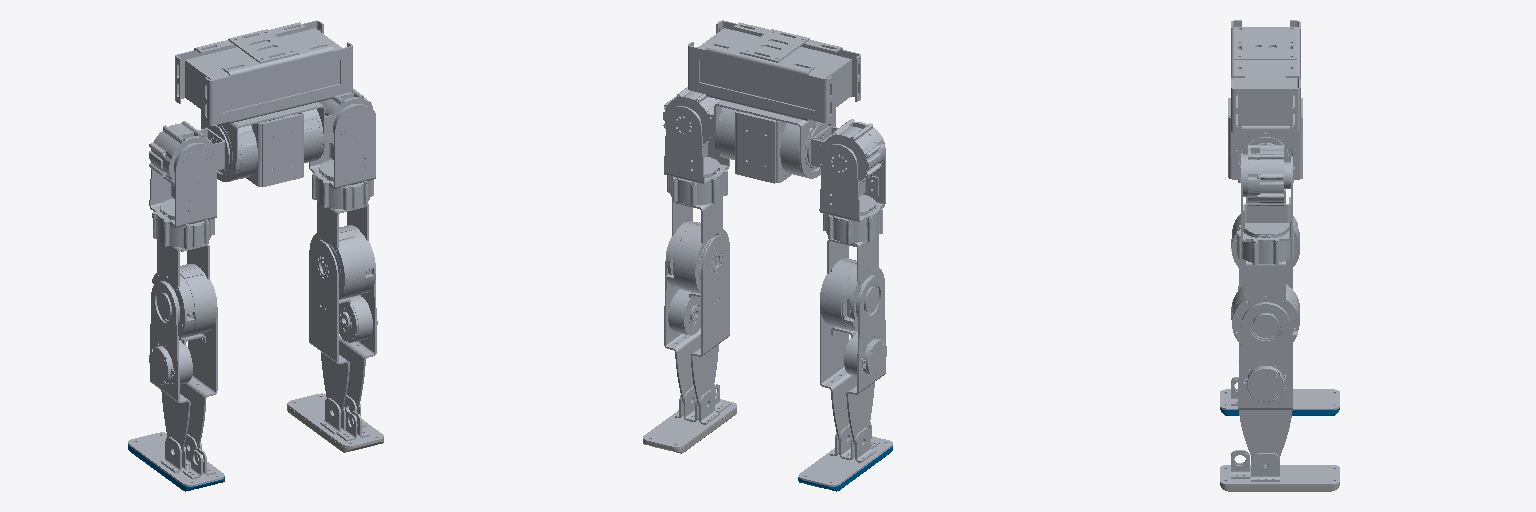
robot.urdf — ch_robot:
<?xml version='1.0' encoding='utf-8'?>
<robot name="ch_robot">
  <!-- Simulation inertials match chrobot_16kg_candidate.xml, not measured hardware.
       Regenerate with deprecated/wbc_prototype/sync_wbc_model.py; joint transforms are preserved. -->

  <material name="robot_metal">
    <color rgba="0.72 0.74 0.78 1.0"/>
  </material>

  <link name="world"/>

  <link name="torso">
    <inertial>
      <origin xyz="-0.156928 -0.029496 0.666" rpy="0 0 0"/>
      <mass value="0.001"/>
      <inertia ixx="1e-06" iyy="1e-06" izz="1e-06" ixy="0" ixz="0" iyz="0"/>
    </inertial>

    <collision>
      <!-- box centered at torso frame -->
      <origin xyz="-0.154672 -0.03 0.6962" rpy="0 0 0" />
      <geometry>
        <box size="0.28 0.12 0.096" />
         <!-- <mesh filename="package://humanoid_leg_description/meshes/robot_meshes/visual/battery_box.stl" scale="0.001 0.001 0.001" /> -->
      </geometry>
    </collision>

    <visual>
      <!-- <origin xyz="0.281672 0.07751 -0.661236" rpy="0 0 0" /> -->
       <origin xyz="0 0 0" rpy="0 0 0" />
      <geometry>
        <mesh filename="package://humanoid_leg_description/meshes/robot_meshes/visual/battery_box.stl" scale="0.001 0.001 0.001" />
      </geometry>
      <material name="robot_metal"/>
    </visual>
  </link>

  <link name="hip">
    <inertial>
      <origin xyz="-0.155587 -0.02906 0.584318" rpy="0 0 0"/>
      <mass value="3.46458542718"/>
      <inertia ixx="0.01047624665059703" iyy="0.01596284505778503" izz="0.01690302103711827" ixy="0.0001201853818703217" ixz="1.247609115353915e-06" iyz="-2.935098713103105e-05"/>
    </inertial>

    <collision>
      <origin xyz="0 0 0" rpy="0 0 0" />
      <geometry>
        <mesh filename="package://humanoid_leg_description/meshes/robot_meshes/hip_ch.stl" scale="0.001 0.001 0.001" />
      </geometry>
    </collision>
    <visual>
      <origin xyz="0 0 0" rpy="0 0 0" />
      <geometry>
        <mesh filename="package://humanoid_leg_description/meshes/robot_meshes/visual/hip_dumb2.stl" scale="0.001 0.001 0.001" />
      </geometry>
      <material name="robot_metal"/>
    </visual>
  </link>

  <link name="left_leg1">
    <inertial>
      <origin xyz="0.062427 -0.005791999999999999 3.199999999992098e-05" rpy="0 0 0"/>
      <mass value="1.17518545422"/>
      <inertia ixx="0.001400275707871315" iyy="0.001683658205468707" izz="0.001819982579210013" ixy="4.361290088557603e-05" ixz="7.327514068209179e-07" iyz="1.19807476929316e-07"/>
    </inertial>

    <collision>
      <origin xyz="0.068372 0.029495 -0.577401" rpy="0 0 0" />
      <geometry>
        <mesh filename="package://humanoid_leg_description/meshes/robot_meshes/left_leg1_ch.stl" scale="0.001 0.001 0.001" />
      </geometry>
    </collision>
    <visual>
      <origin xyz="0.068372 0.029495 -0.577401" rpy="0 0 0" />
      <geometry>
        <mesh filename="package://humanoid_leg_description/meshes/robot_meshes/visual/left_leg1_dumb.stl" scale="0.001 0.001 0.001" />
      </geometry>
      <material name="robot_metal"/>
    </visual>
  </link>

  <link name="left_leg2">
    <inertial>
      <origin xyz="3.000000000003e-05 0.004019999999999999 -0.09122800000000003" rpy="0 0 0"/>
      <mass value="1.67770594951"/>
      <inertia ixx="0.00596827672097928" iyy="0.005134170360062446" izz="0.002765308104108276" ixy="2.536121143616917e-05" ixz="7.506463400662321e-07" iyz="-0.0005689587132707231"/>
    </inertial>

    <collision>
      <origin xyz="4.8e-05 0.029495 -0.577401" rpy="0 0 0" />
      <geometry>
        <mesh filename="package://humanoid_leg_description/meshes/robot_meshes/left_leg2_ch.stl" scale="0.001 0.001 0.001" />
      </geometry>
    </collision>
    <visual>
      <origin xyz="4.8e-05 0.029495 -0.577401" rpy="0 0 0" />
      <geometry>
        <mesh filename="package://humanoid_leg_description/meshes/robot_meshes/visual/left_leg2_dumb.stl" scale="0.001 0.001 0.001" />
      </geometry>
      <material name="robot_metal"/>
    </visual>
  </link>

  <link name="left_leg3">
    <inertial>
      <origin xyz="0.005222000000000032 -0.0007530000000000002 -0.144885" rpy="0 0 0"/>
      <mass value="1.8557940434"/>
      <inertia ixx="0.005507285232121227" iyy="0.00476184995539028" izz="0.002573162623978506" ixy="2.761192245359588e-05" ixz="0.0001183995778737569" iyz="-2.908482451908645e-05"/>
    </inertial>

    <collision>
      <origin xyz="4.8e-05 0.029495 -0.463816" rpy="0 0 0" />
      <geometry>
        <mesh filename="package://humanoid_leg_description/meshes/robot_meshes/left_leg3_ch.stl" scale="0.001 0.001 0.001" />
      </geometry>
    </collision>
    <visual>
      <origin xyz="4.8e-05 0.029495 -0.463816" rpy="0 0 0" />
      <geometry>
        <mesh filename="package://humanoid_leg_description/meshes/robot_meshes/visual/left_leg3_dumb.stl" scale="0.001 0.001 0.001" />
      </geometry>
      <material name="robot_metal"/>
    </visual>
  </link>

  <link name="left_leg4">
    <inertial>
      <origin xyz="0.001385000000000025 -0.001638999999999998 -0.1224000000000001" rpy="0 0 0"/>
      <mass value="0.977646243227"/>
      <inertia ixx="0.005779521243484069" iyy="0.005888103199381956" izz="0.00146684347902399" ixy="-1.124387289580482e-05" ixz="0.0001401200751139017" iyz="-0.0001155410693819218"/>
    </inertial>

    <collision>
      <origin xyz="4.8e-05 0.029495 -0.306338" rpy="0 0 0" />
      <geometry>
        <mesh filename="package://humanoid_leg_description/meshes/robot_meshes/left_leg4_ch.stl" scale="0.001 0.001 0.001" />
      </geometry>
    </collision>
    <visual>
      <origin xyz="4.8e-05 0.029495 -0.306338" rpy="0 0 0" />
      <geometry>
        <mesh filename="package://humanoid_leg_description/meshes/robot_meshes/visual/left_leg4_dumb.stl" scale="0.001 0.001 0.001" />
      </geometry>
      <material name="robot_metal"/>
    </visual>
  </link>

  <link name="left_foot">
    <inertial>
      <origin xyz="-0.01010999999999998 0.009724 -0.02041900000000006" rpy="0 0 0"/>
      <mass value="0.592694120373"/>
      <inertia ixx="0.00160302031661812" iyy="0.0003620921752923659" izz="0.001712932860248533" ixy="-1.377434469700577e-05" ixz="2.18126236301664e-06" iyz="9.03295352764525e-05"/>
    </inertial>

    <collision>
      <origin xyz="-0.01 0.025 -0.035" rpy="0 0 0" />
      <geometry>
        <!-- <mesh filename="package://humanoid_leg_description/meshes/robot_meshes/left_foot_ch.stl" scale="0.001 0.001 0.001" /> -->
        <box size="0.08 0.21 0.01526"/>
      </geometry>
    </collision>
    <visual>
      <origin xyz="-0.00958 0.03 -0.031528" rpy="0 0 0" />
      <geometry>
        <mesh filename="package://humanoid_leg_description/meshes/robot_meshes/visual/left_foot.stl" scale="0.001 0.001 0.001" />
      </geometry>
      <material name="robot_metal"/>
    </visual>

    <visual>
      <origin xyz="0.3 0.03 -0.031528" rpy="0 0 0" />
      <geometry>
        <mesh filename="package://humanoid_leg_description/meshes/robot_meshes/visual/left_foot_sole.stl" scale="0.001 0.001 0.001" />
      </geometry>
    </visual>
  </link>

  <link name="right_leg1">
    <inertial>
      <origin xyz="-0.06242599999999998 -0.005791999999999999 3.299999999994974e-05" rpy="0 0 0"/>
      <mass value="1.17908029277"/>
      <inertia ixx="0.001404956975627551" iyy="0.001689286841942476" izz="0.001826066965780016" ixy="-4.375536690477021e-05" ixz="-7.290912009592858e-07" iyz="1.318305220793622e-07"/>
    </inertial>
    <collision>
      <origin xyz="0.2429 0.029495 -0.577401" rpy="0 0 0" />
      <geometry>
        <mesh filename="package://humanoid_leg_description/meshes/robot_meshes/right_leg1_ch.stl" scale="0.001 0.001 0.001" />
      </geometry>
    </collision>
    <visual>
      <origin xyz="0.2429 0.029495 -0.577401" rpy="0 0 0" />
      <geometry>
        <mesh filename="package://humanoid_leg_description/meshes/robot_meshes/visual/right_leg1_dumb.stl" scale="0.001 0.001 0.001" />
      </geometry>
      <material name="robot_metal"/>
    </visual>
  </link>
  
  <link name="right_leg2">
    <inertial>
      <origin xyz="-2.899999999997349e-05 0.003988999999999999 -0.09168700000000007" rpy="0 0 0"/>
      <mass value="1.6777180051"/>
      <inertia ixx="0.00597139999025701" iyy="0.005142688137759035" izz="0.002748090485573955" ixy="-2.516089685188873e-05" ixz="-7.230745654796934e-07" iyz="-0.0005677309594076074"/>
    </inertial>

    <collision>
      <origin xyz="0.311223 0.029495 -0.577401" rpy="0 0 0" />
      <geometry>
        <mesh filename="package://humanoid_leg_description/meshes/robot_meshes/right_leg2_ch.stl" scale="0.001 0.001 0.001" />
      </geometry>
    </collision>
    <visual>
      <origin xyz="0.311223 0.029495 -0.577401" rpy="0 0 0" />
      <geometry>
        <mesh filename="package://humanoid_leg_description/meshes/robot_meshes/visual/right_leg2_dumb.stl" scale="0.001 0.001 0.001" />
      </geometry>
      <material name="robot_metal"/>
    </visual>
  </link>
  <link name="right_leg3">
    <inertial>
      <origin xyz="-0.006069999999999992 -0.0007710000000000009 -0.1450660000000001" rpy="0 0 0"/>
      <mass value="1.8443163012"/>
      <inertia ixx="0.005502415714432579" iyy="0.00469270771213923" izz="0.002556278152958191" ixy="-2.701704191730636e-05" ixz="-0.0001352512255713393" iyz="-2.946929630710918e-05"/>
    </inertial>
    <collision>
      <origin xyz="0.311223 0.029495 -0.463816" rpy="0 0 0" />
      <geometry>
        <mesh filename="package://humanoid_leg_description/meshes/robot_meshes/right_leg3_ch.stl" scale="0.001 0.001 0.001" />
      </geometry>
    </collision>
    <visual>
      <origin xyz="0.311223 0.029495 -0.463816" rpy="0 0 0" />
      <geometry>
        <mesh filename="package://humanoid_leg_description/meshes/robot_meshes/visual/right_leg3_dumb.stl" scale="0.001 0.001 0.001" />
      </geometry>
      <material name="robot_metal"/>
    </visual>
  </link>
  <link name="right_leg4">
    <inertial>
      <origin xyz="-0.001384999999999997 -0.001638999999999998 -0.1224000000000001" rpy="0 0 0"/>
      <mass value="0.96273799775"/>
      <inertia ixx="0.00569138862697328" iyy="0.005798314803523153" izz="0.00144447540589357" ixy="1.107242392883628e-05" ixz="-0.0001379833671895849" iyz="-0.0001137791696677019"/>
    </inertial>
    <collision>
      <origin xyz="0.311223 0.029495 -0.306338" rpy="0 0 0" />
      <geometry>
        <mesh filename="package://humanoid_leg_description/meshes/robot_meshes/right_leg4_ch.stl" scale="0.001 0.001 0.001" />
      </geometry>
    </collision>
    <visual>
      <origin xyz="0.311223 0.029495 -0.306338" rpy="0 0 0" />
      <geometry>
        <mesh filename="package://humanoid_leg_description/meshes/robot_meshes/visual/right_leg4_dumb.stl" scale="0.001 0.001 0.001" />
      </geometry>
      <material name="robot_metal"/>
    </visual>
  </link>
  
  <link name="right_foot">
    <inertial>
      <origin xyz="0.01011000000000001 0.009724 -0.02041900000000006" rpy="0 0 0"/>
      <mass value="0.591536165263"/>
      <inertia ixx="0.001599888472551463" iyy="0.0003613847505514319" izz="0.001709586278438126" ixy="1.374743355974368e-05" ixz="-2.177000799056908e-06" iyz="9.015305715167603e-05"/>
    </inertial>
    <collision>
      <origin xyz="0.01 0.025 -0.035" rpy="0 0 0" />
      <geometry>
        <!-- <mesh filename="package://humanoid_leg_description/meshes/robot_meshes/right_foot_ch.stl" scale="0.001 0.001 0.001" /> -->
        <box size="0.08 0.21 0.01526"/>
      </geometry>
    </collision>
    <visual>
      <origin xyz="0.320851 0.03 -0.031528" rpy="0 0 0" />
      <geometry>
        <mesh filename="package://humanoid_leg_description/meshes/robot_meshes/visual/right_foot.stl" scale="0.001 0.001 0.001" />
      </geometry>
      <material name="robot_metal"/>
    </visual>

    <visual>
      <origin xyz="0.01 0.03 -0.031528" rpy="0 0 0" />
      <geometry>
        <mesh filename="package://humanoid_leg_description/meshes/robot_meshes/visual/right_foot_sole.stl" scale="0.001 0.001 0.001" />
      </geometry>
    </visual>
  </link>

  <!-- THIS JOINT MOVES THE ENTIRE BODY  -->
  <joint name="world_to_base" type="fixed">
    <parent link="world"/>
    <child link="torso"/>
    <!-- This is the shift you observed on hip+legs when hip_to_torso was set -->
    <origin xyz="0.155 0.03 0.35" rpy="0 0 0"/>
  </joint>

  <joint name="torso_to_hip" type="fixed">
    <parent link="torso"/>
    <child  link="hip"/>
    <!-- torso frame position relative to hip frame -->
    <origin xyz="0 0 0" rpy="0 0 0"/>
  </joint>

  <joint name="left_hip1_joint" type="revolute">
    <parent link="hip" />
    <child link="left_leg1" />
    <origin xyz="-0.068372 -0.029495 0.577401" rpy="0 0 0" />
    <axis xyz="1.0 0.0 0.0" />
    <limit lower="-1.57" upper="1.57" effort="100" velocity="5.0" />
    <dynamics damping="1.0" />
  </joint><joint name="left_hip2_joint" type="revolute">
    <parent link="left_leg1" />
    <child link="left_leg2" />
    <origin xyz="0.068324 0 0" rpy="0 0 0" />
    <axis xyz="0.0 1.0 0.0" />
    <limit lower="-1.57" upper="0.436332" effort="100" velocity="5.0" />
    <dynamics damping="1.0" />
  </joint><joint name="left_thigh_joint" type="revolute">
    <parent link="left_leg2" />
    <child link="left_leg3" />
    <origin xyz="0 0 -0.113585" rpy="0 0 0" />
    <axis xyz="0.0 0.0 -1.0" />
    <limit lower="-0.785398" upper="0.785398" effort="100" velocity="5.0" />
    <dynamics damping="1.0" />
  </joint><joint name="left_knee_joint" type="revolute">
    <parent link="left_leg3" />
    <child link="left_leg4" />
    <origin xyz="0 0 -0.157478" rpy="0 0 0" />
    <axis xyz="1.0 0.0 0.0" />
    <limit lower="-2.0944" upper="0" effort="100" velocity="5.0" />
    <dynamics damping="1.0" />
  </joint><joint name="left_ankle_joint" type="revolute">
    <parent link="left_leg4" />
    <child link="left_foot" />
    <origin xyz="0.009628 -0.000505 -0.27481" rpy="0 0 0" />
    <axis xyz="1.0 0.0 0.0" />
    <limit lower="-0.6" upper="0.6" effort="100" velocity="5.0" />
    <dynamics damping="1.0" />
  </joint><joint name="right_hip1_joint" type="revolute">
    <parent link="hip" />
    <child link="right_leg1" />
    <origin xyz="-0.2429 -0.029495 0.577401" rpy="0 0 0" />
    <axis xyz="1.0 0.0 0.0" />
    <limit lower="-1.57" upper="1.57" effort="100" velocity="5.0" />
    <dynamics damping="1.0" />
  </joint><joint name="right_hip2_joint" type="revolute">
    <parent link="right_leg1" />
    <child link="right_leg2" />
    <origin xyz="-0.068323 0 0" rpy="0 0 0" />
    <axis xyz="0.0 1.0 0.0" />
    <limit lower="-0.436332" upper="1.57" effort="100" velocity="5.0" />
    <dynamics damping="1.0" />
  </joint><joint name="right_thigh_joint" type="revolute">
    <parent link="right_leg2" />
    <child link="right_leg3" />
    <origin xyz="0 0 -0.113585" rpy="0 0 0" />
    <axis xyz="0.0 0.0 1.0" />
    <limit lower="-0.785398" upper="0.785398" effort="100" velocity="5.0" />
    <dynamics damping="1.0" />
  </joint><joint name="right_knee_joint" type="revolute">
    <parent link="right_leg3" />
    <child link="right_leg4" />
    <origin xyz="0 0 -0.157478" rpy="0 0 0" />
    <axis xyz="1.0 0.0 0.0" />
    <limit lower="-2.0944" upper="0" effort="100" velocity="5.0" />
    <dynamics damping="1.0" />
  </joint><joint name="right_ankle_joint" type="revolute">
    <parent link="right_leg4" />
    <child link="right_foot" />
    <origin xyz="-0.009628 -0.000505 -0.27481" rpy="0 0 0" />
    <axis xyz="1.0 0.0 0.0" />
    <limit lower="-0.6" upper="0.6" effort="100" velocity="5.0" />
    <dynamics damping="1.0" />
  </joint>

  <ros2_control name="HumanoidLegSystem" type="system">
    <hardware>
      <plugin>mock_components/GenericSystem</plugin>
    </hardware>
    <joint name="left_hip1_joint">
      <command_interface name="position"/>
      <state_interface name="position"/>
      <state_interface name="velocity"/>
    </joint>
    <joint name="left_hip2_joint">
      <command_interface name="position"/>
      <state_interface name="position"/>
      <state_interface name="velocity"/>
    </joint>
    <joint name="left_thigh_joint">
      <command_interface name="position"/>
      <state_interface name="position"/>
      <state_interface name="velocity"/>
    </joint>
    <joint name="left_knee_joint">
      <command_interface name="position"/>
      <state_interface name="position"/>
      <state_interface name="velocity"/>
    </joint>
    <joint name="left_ankle_joint">
      <command_interface name="position"/>
      <state_interface name="position"/>
      <state_interface name="velocity"/>
    </joint>
    <joint name="right_hip1_joint">
      <command_interface name="position"/>
      <state_interface name="position"/>
      <state_interface name="velocity"/>
    </joint>
    <joint name="right_hip2_joint">
      <command_interface name="position"/>
      <state_interface name="position"/>
      <state_interface name="velocity"/>
    </joint>
    <joint name="right_thigh_joint">
      <command_interface name="position"/>
      <state_interface name="position"/>
      <state_interface name="velocity"/>
    </joint>
    <joint name="right_knee_joint">
      <command_interface name="position"/>
      <state_interface name="position"/>
      <state_interface name="velocity"/>
    </joint>
    <joint name="right_ankle_joint">
      <command_interface name="position"/>
      <state_interface name="position"/>
      <state_interface name="velocity"/>
    </joint>
  </ros2_control>
</robot>

--- Render facts (derived) ---
The picture shows the robot from 3 angles, left to right: view 1: azimuth 30°, elevation 25°; view 2: azimuth 150°, elevation 25°; view 3: azimuth 270°, elevation 25°; orthographic projection.
Model ch_robot with 13 links and 12 joints (10 revolute, 2 fixed), rooted at world, posed every joint at zero.
Links seen in each view (by area): view 1: torso, left_leg4, right_leg4, hip, right_leg2, left_leg2, right_leg3, left_leg3, right_leg1, right_foot, left_foot, left_leg1; view 2: torso, left_leg4, right_leg4, hip, right_leg2, left_leg2, right_leg3, left_leg3, left_foot, right_foot, right_leg1, left_leg1; view 3: torso, left_leg4, left_foot, left_leg3, left_leg2, left_leg1, hip, right_foot, right_leg3.
Boxes of the visible links, box(x1,y1,x2,y2) form: torso: box(175, 20, 352, 125); left_leg4: box(309, 240, 377, 416); right_leg4: box(149, 280, 217, 453); hip: box(201, 102, 324, 186); right_leg2: box(149, 133, 216, 248); left_leg2: box(309, 104, 375, 209); right_leg3: box(152, 240, 216, 337); left_leg3: box(309, 202, 375, 299); right_leg1: box(149, 121, 229, 185); right_foot: box(128, 432, 224, 491); left_foot: box(287, 393, 383, 452); left_leg1: box(319, 89, 375, 146); torso: box(688, 20, 860, 122); left_leg4: box(664, 235, 729, 405); right_leg4: box(820, 275, 886, 444); hip: box(714, 100, 835, 183); right_leg2: box(819, 124, 885, 243); left_leg2: box(664, 106, 729, 205); right_leg3: box(820, 235, 884, 331); left_leg3: box(666, 197, 729, 293); left_foot: box(643, 384, 736, 453); right_foot: box(798, 422, 892, 491); right_leg1: box(807, 119, 884, 183); left_leg1: box(663, 87, 720, 146); torso: box(1231, 20, 1300, 132); left_leg4: box(1238, 303, 1292, 457); left_foot: box(1220, 450, 1339, 491); left_leg3: box(1231, 261, 1299, 343); left_leg2: box(1237, 153, 1293, 264); left_leg1: box(1243, 145, 1290, 205); hip: box(1228, 98, 1302, 179); right_foot: box(1220, 377, 1339, 415); right_leg3: box(1231, 189, 1299, 267).
Size in the robot's own frame: 0.4118 by 0.21 by 0.7599 metres.
14 mesh visuals loaded from 14 distinct referenced files (14 binary STL).
